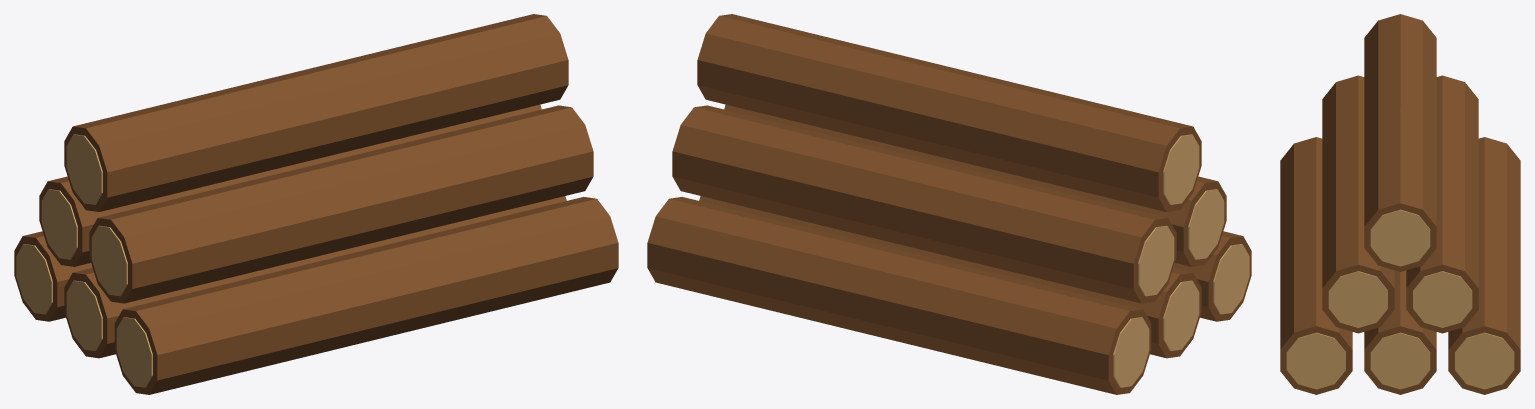
File: stacked_logs.glb
3 renders of one model, left to right at view 1: azimuth 30°, elevation 25°; view 2: azimuth 150°, elevation 25°; view 3: azimuth 270°, elevation 25°, orthographic. The views are drawn at different scales.
Visible parts, largest first — view 1: stacked_logs__static; view 2: stacked_logs__static; view 3: stacked_logs__static.
Boxes of the visible parts, x1,y1,x2,y2 form: stacked_logs__static: [14, 14, 618, 394]; stacked_logs__static: [647, 14, 1251, 394]; stacked_logs__static: [1280, 14, 1520, 394].
Bounding box in the file's own units: 3.33 × 1.56 × 1.77.
